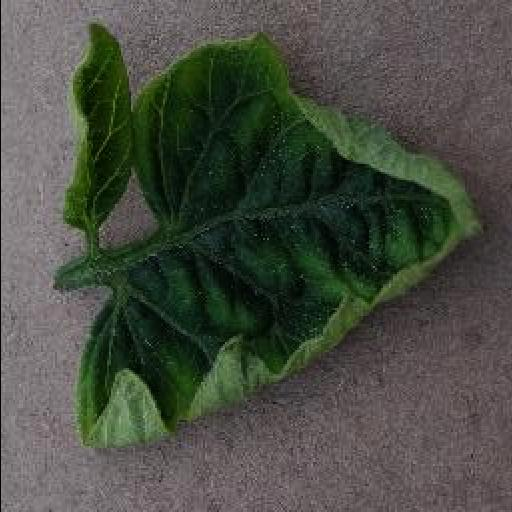disease_tomato: (70, 26, 486, 452)
